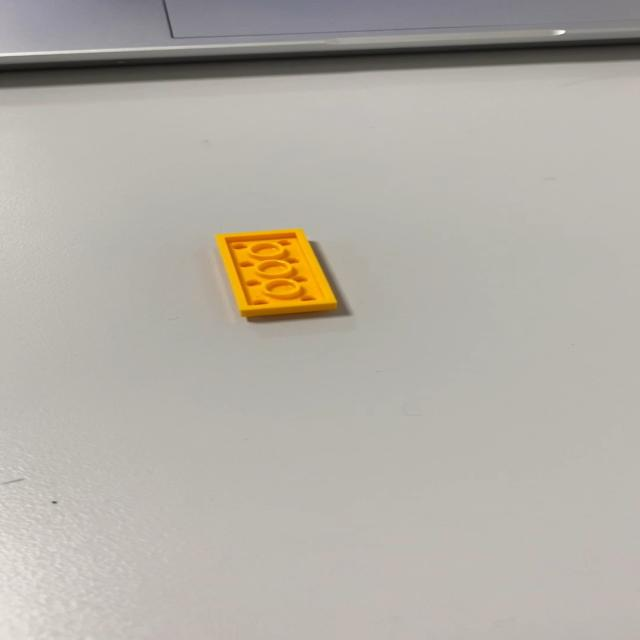C4x2x0: (212, 227, 336, 318)
